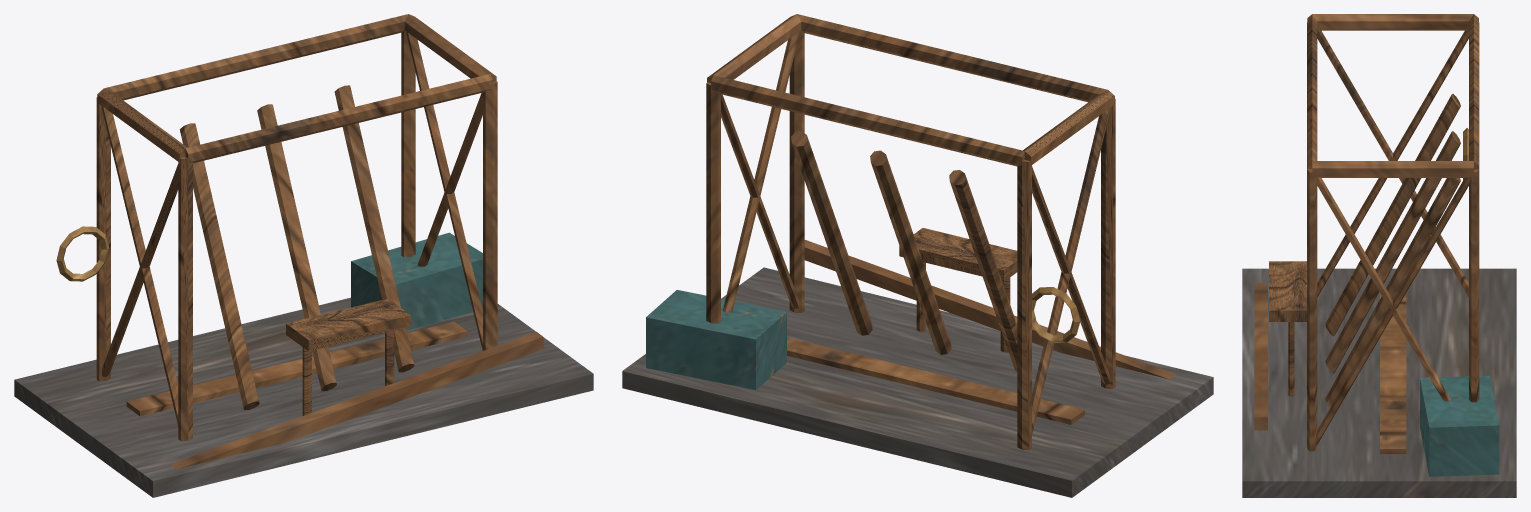
The model's file is ark-yard-scaffold.glb.
3 renders of one model, left to right at view 1: azimuth 30°, elevation 25°; view 2: azimuth 150°, elevation 25°; view 3: azimuth 270°, elevation 25°, orthographic. The views are drawn at different scales.
Visible parts, largest first — view 1: ark-yard-scaffold; view 2: ark-yard-scaffold; view 3: ark-yard-scaffold.
Boxes of the visible parts, x1,y1,x2,y2 form: ark-yard-scaffold: (14, 14, 593, 497); ark-yard-scaffold: (622, 14, 1213, 497); ark-yard-scaffold: (1242, 14, 1516, 497).
Size of the model in its own units: 6.6 by 4.45 by 3.6.
Materials: 1 (1 with a texture image).
